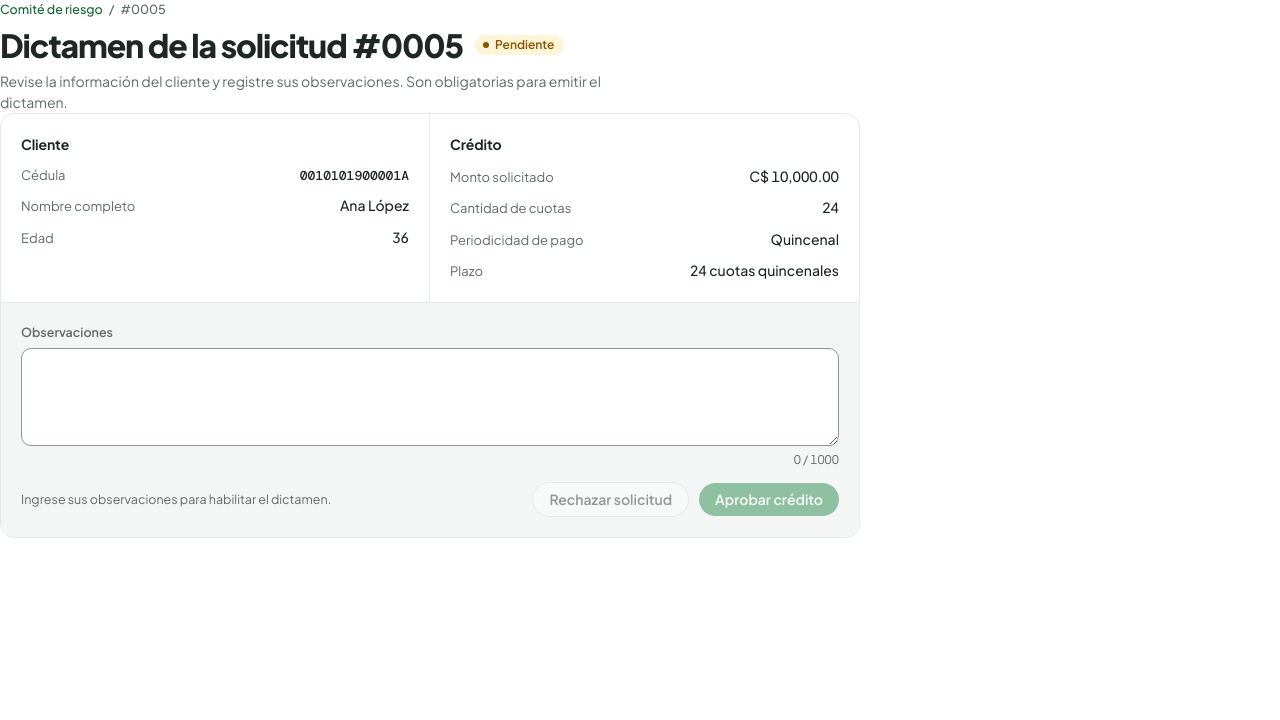
DictamenPage › un error de red ofrece reintentar, que vuelve a pedir confirmación
Type "Ok" into the text box labelled "Observaciones" at (430, 396), box left=21, top=348, right=839, bottom=446
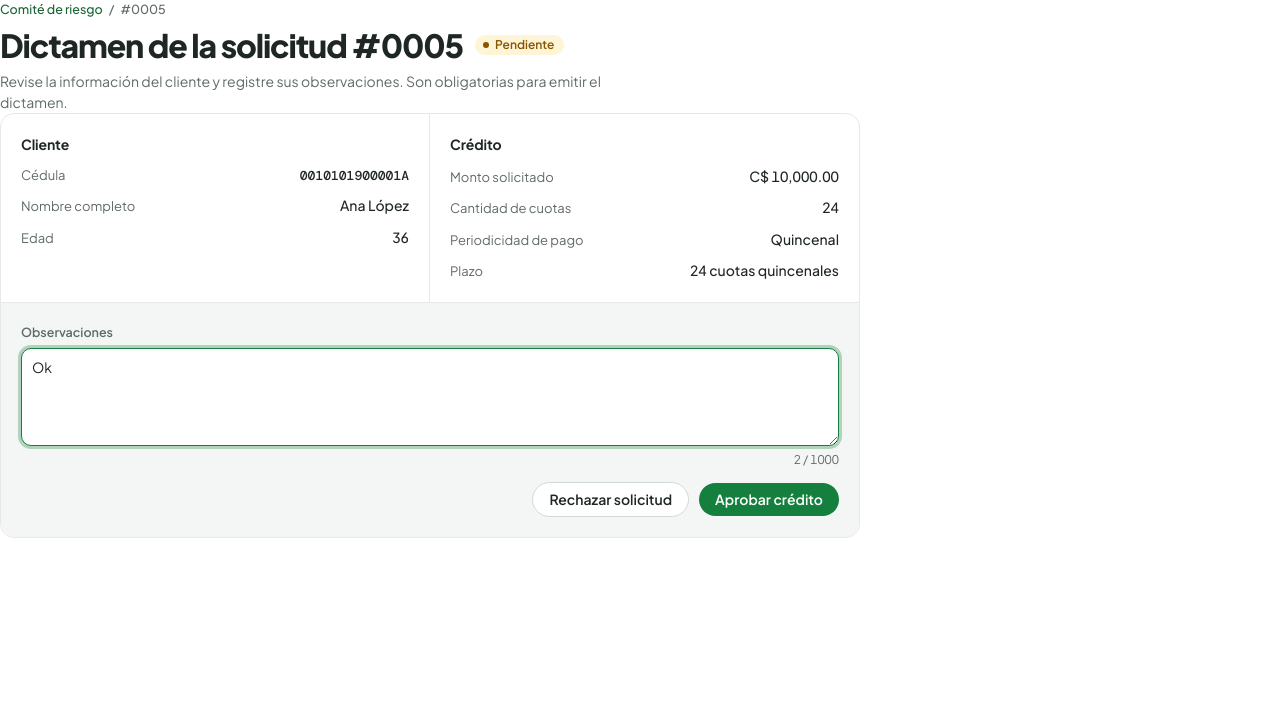
Click the button "Aprobar crédito" at (769, 499), box left=699, top=482, right=839, bottom=516
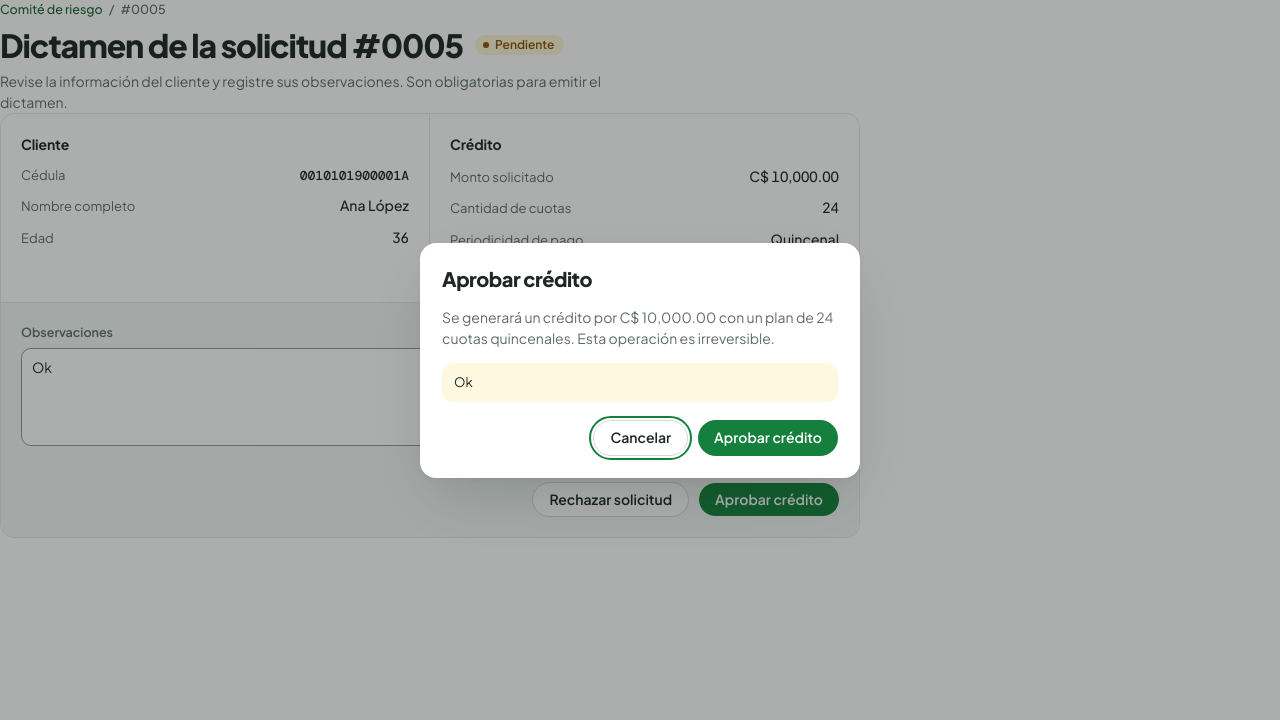
Click the button "Aprobar crédito" at (768, 438), box left=698, top=420, right=838, bottom=456
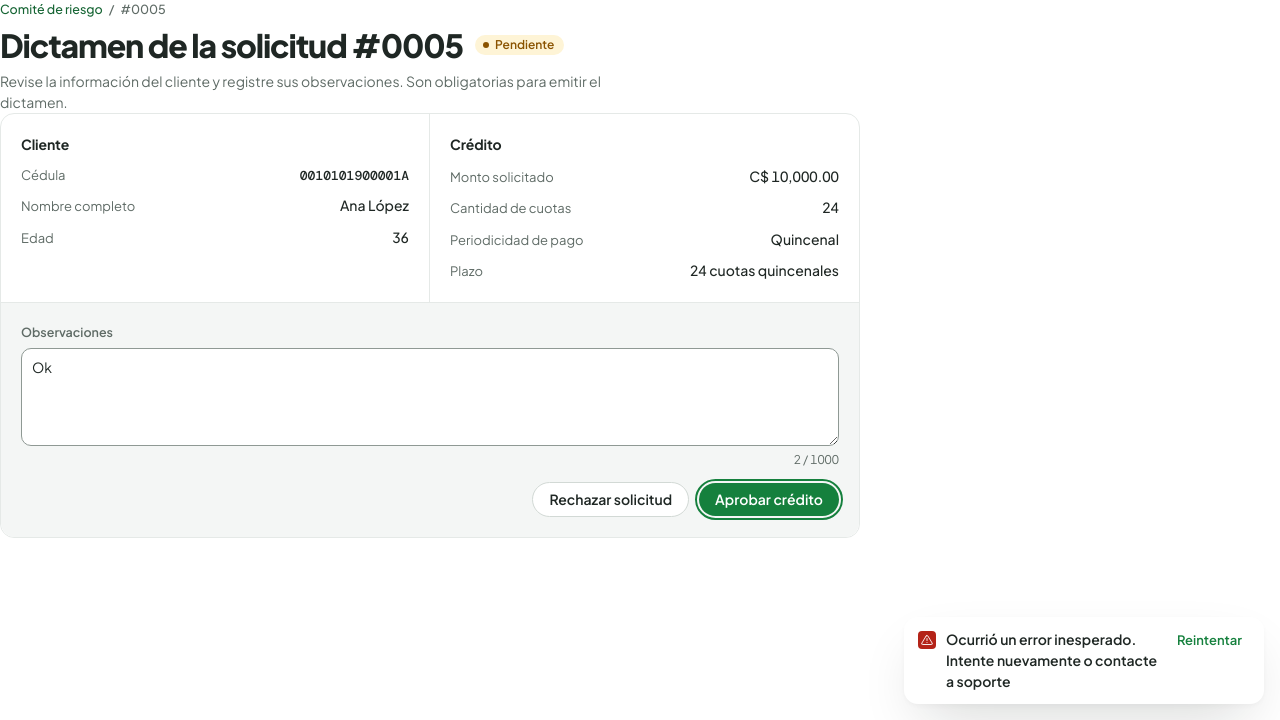
Check: the dialog is gone
Click the button "Reintentar" at (1210, 641), box left=1169, top=629, right=1250, bottom=652
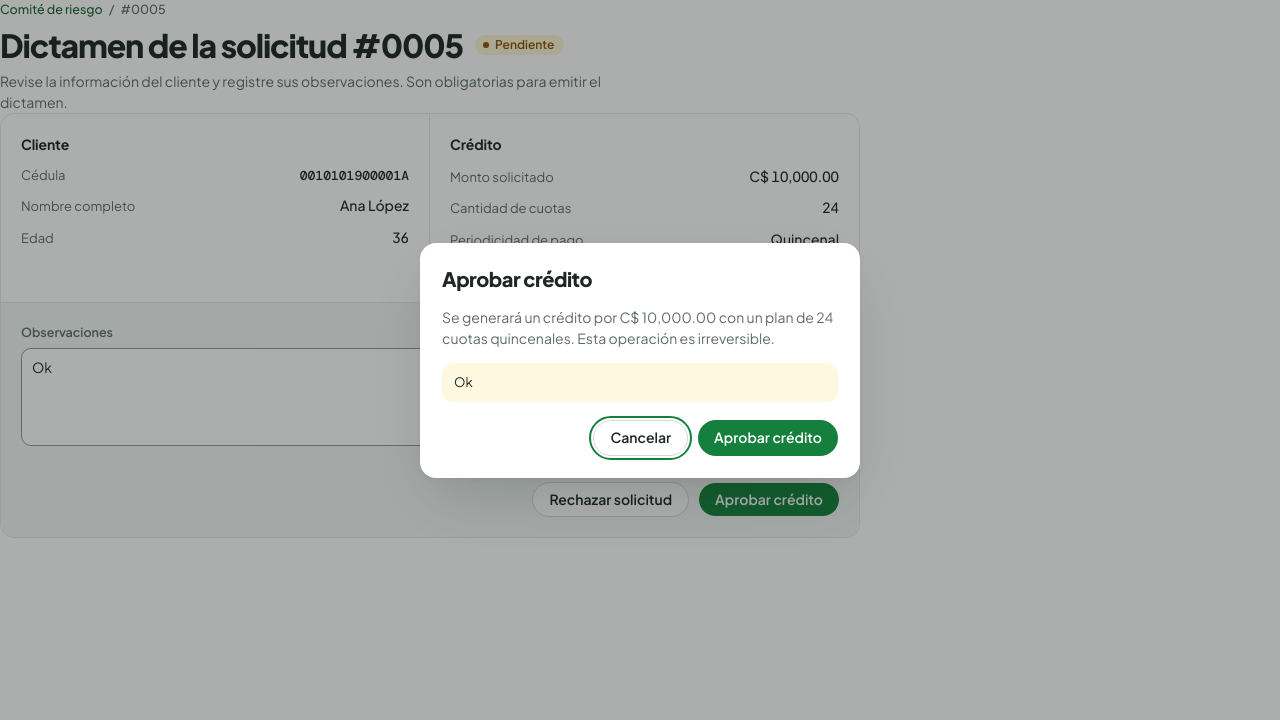
Check: the dialog is shown, box left=420, top=242, right=860, bottom=478
